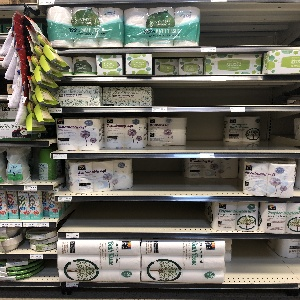void: (60, 199, 210, 233), (153, 78, 298, 110), (201, 1, 300, 47), (230, 236, 279, 286), (135, 155, 185, 196), (258, 110, 300, 151), (189, 113, 225, 152)
